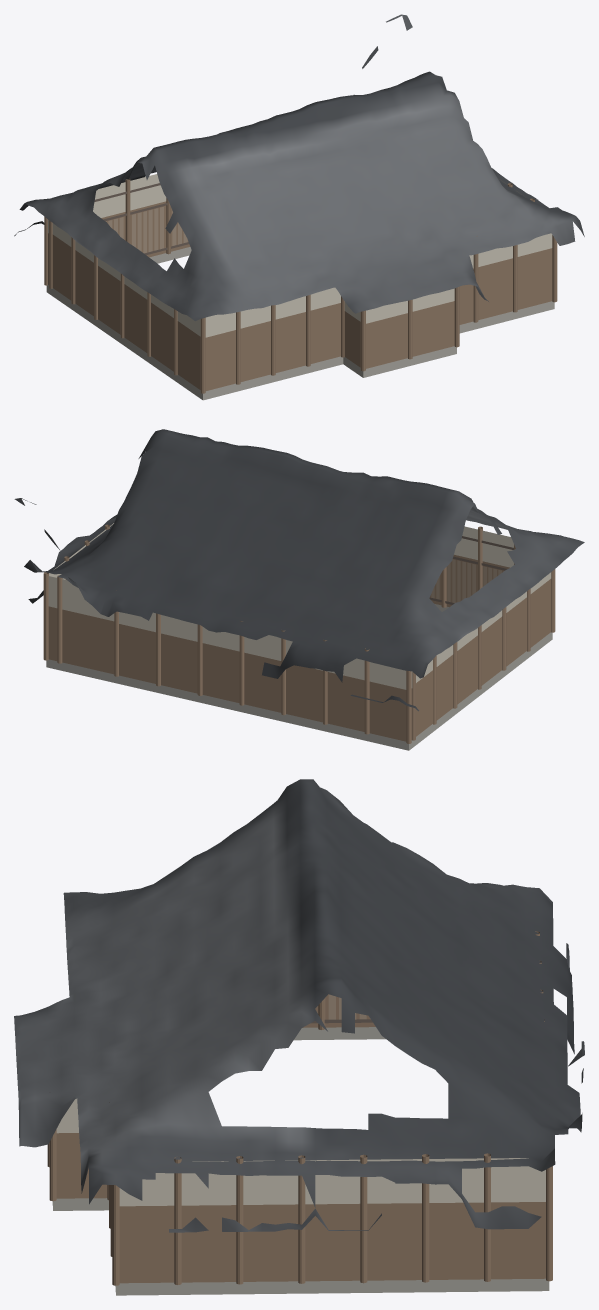
Rendered from daikakuji-shinden.glb.
3 renders of one model, top to bottom at view 1: azimuth 30°, elevation 25°; view 2: azimuth 150°, elevation 25°; view 3: azimuth 270°, elevation 25°, orthographic. The views are drawn at different scales.
Parts seen in each view (by area): view 1: Measured roof, Weathered timber, Lime plaster, Stone footings, Shutter slats; view 2: Measured roof, Weathered timber, Lime plaster, Stone footings, Shutter slats; view 3: Measured roof, Weathered timber, Lime plaster, Stone footings.
Part boxes in pixels (x1,y1,x2,y2): Measured roof: (14,14,584,321); Weathered timber: (44,178,557,393); Lime plaster: (48,174,552,337); Stone footings: (46,247,554,400); Shutter slats: (106,206,187,253); Measured roof: (14,429,584,711); Weathered timber: (43,524,555,743); Lime plaster: (48,523,551,689); Stone footings: (46,604,552,750); Shutter slats: (431,559,503,602); Measured roof: (14,779,584,1232); Weathered timber: (47,931,552,1285); Lime plaster: (56,1098,545,1206); Stone footings: (52,1027,549,1295).
Bounding box in the file's own units: 25.56 × 11.68 × 21.43.
6 materials, 1 textured.
